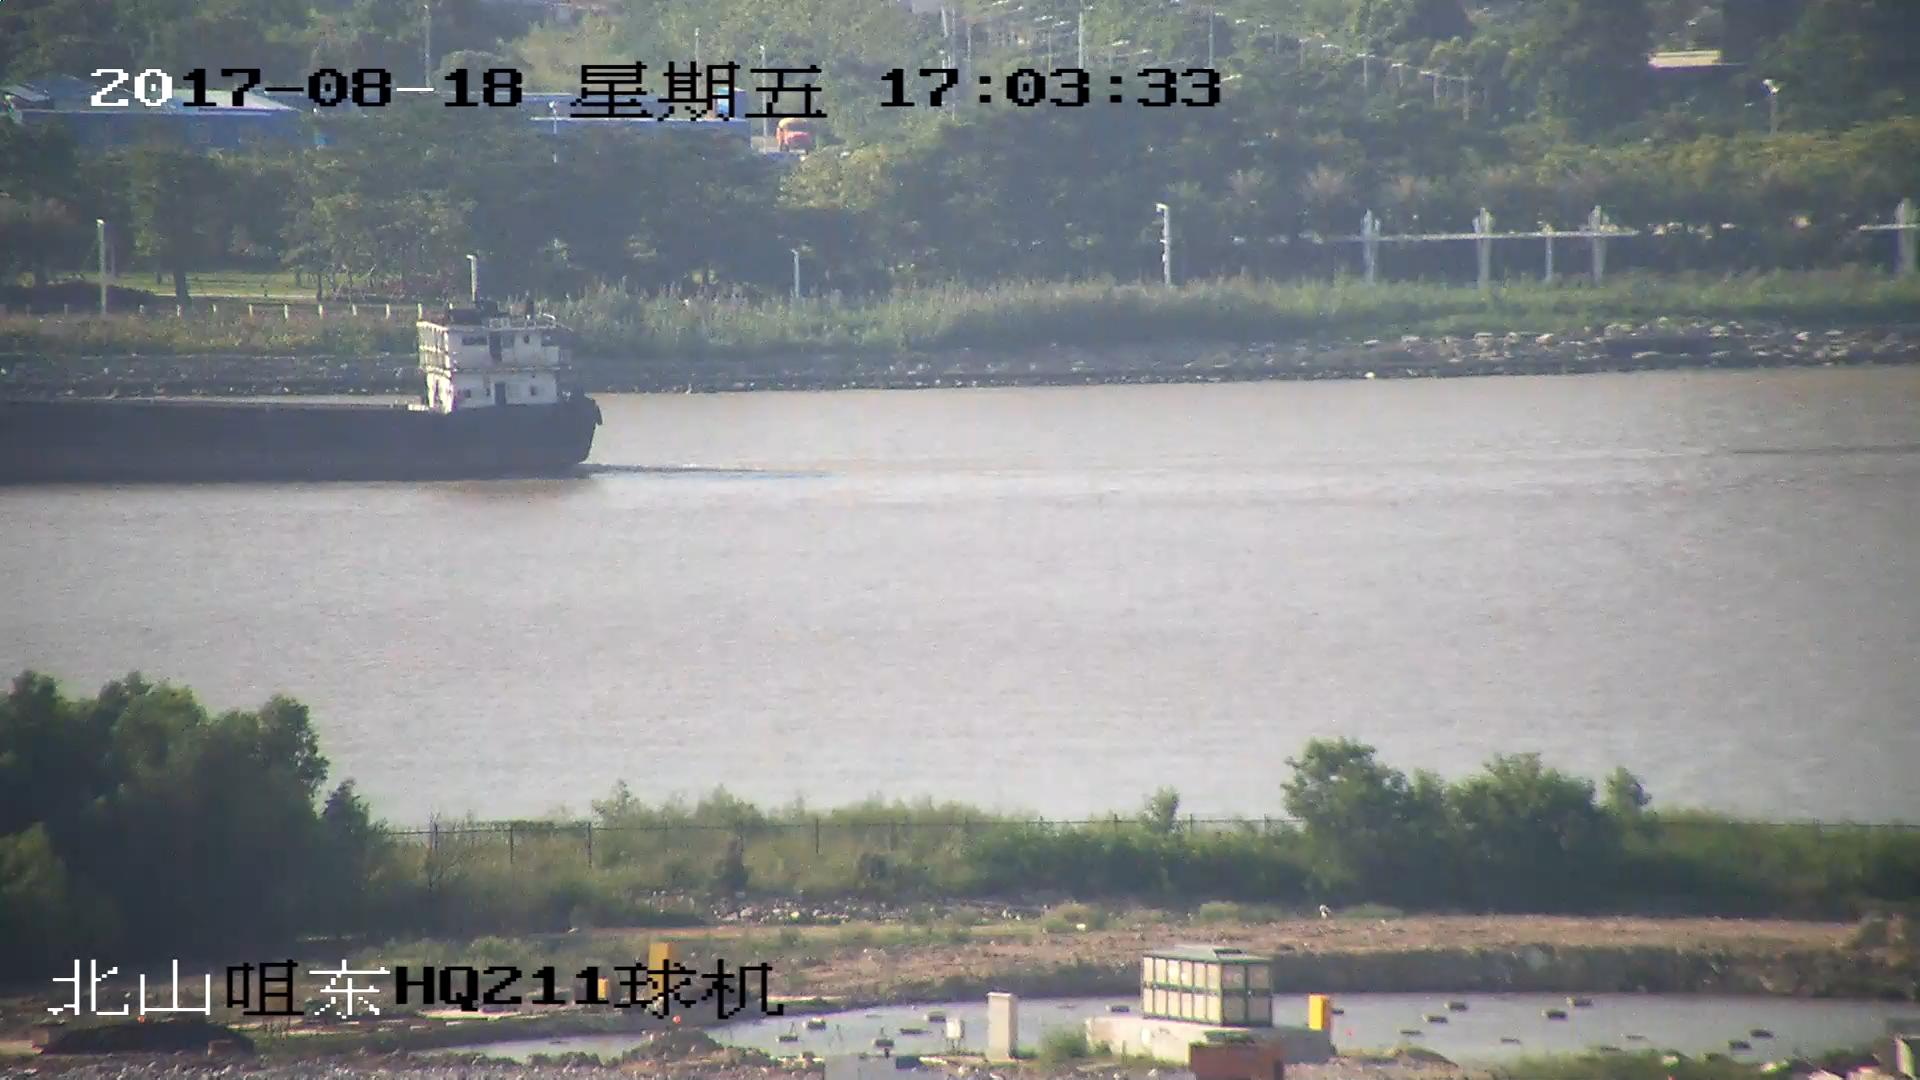general cargo ship: (1, 295, 610, 475)
